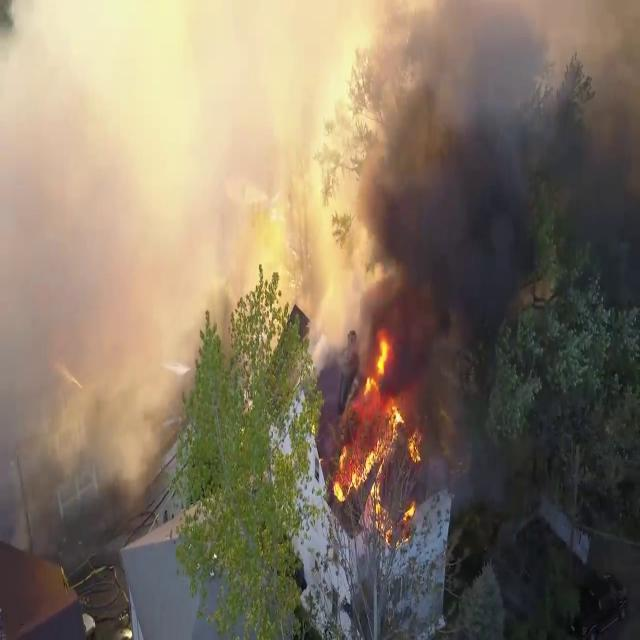Fire: (336, 338, 424, 530)
Smoke: (0, 1, 318, 499), (322, 0, 640, 398)
